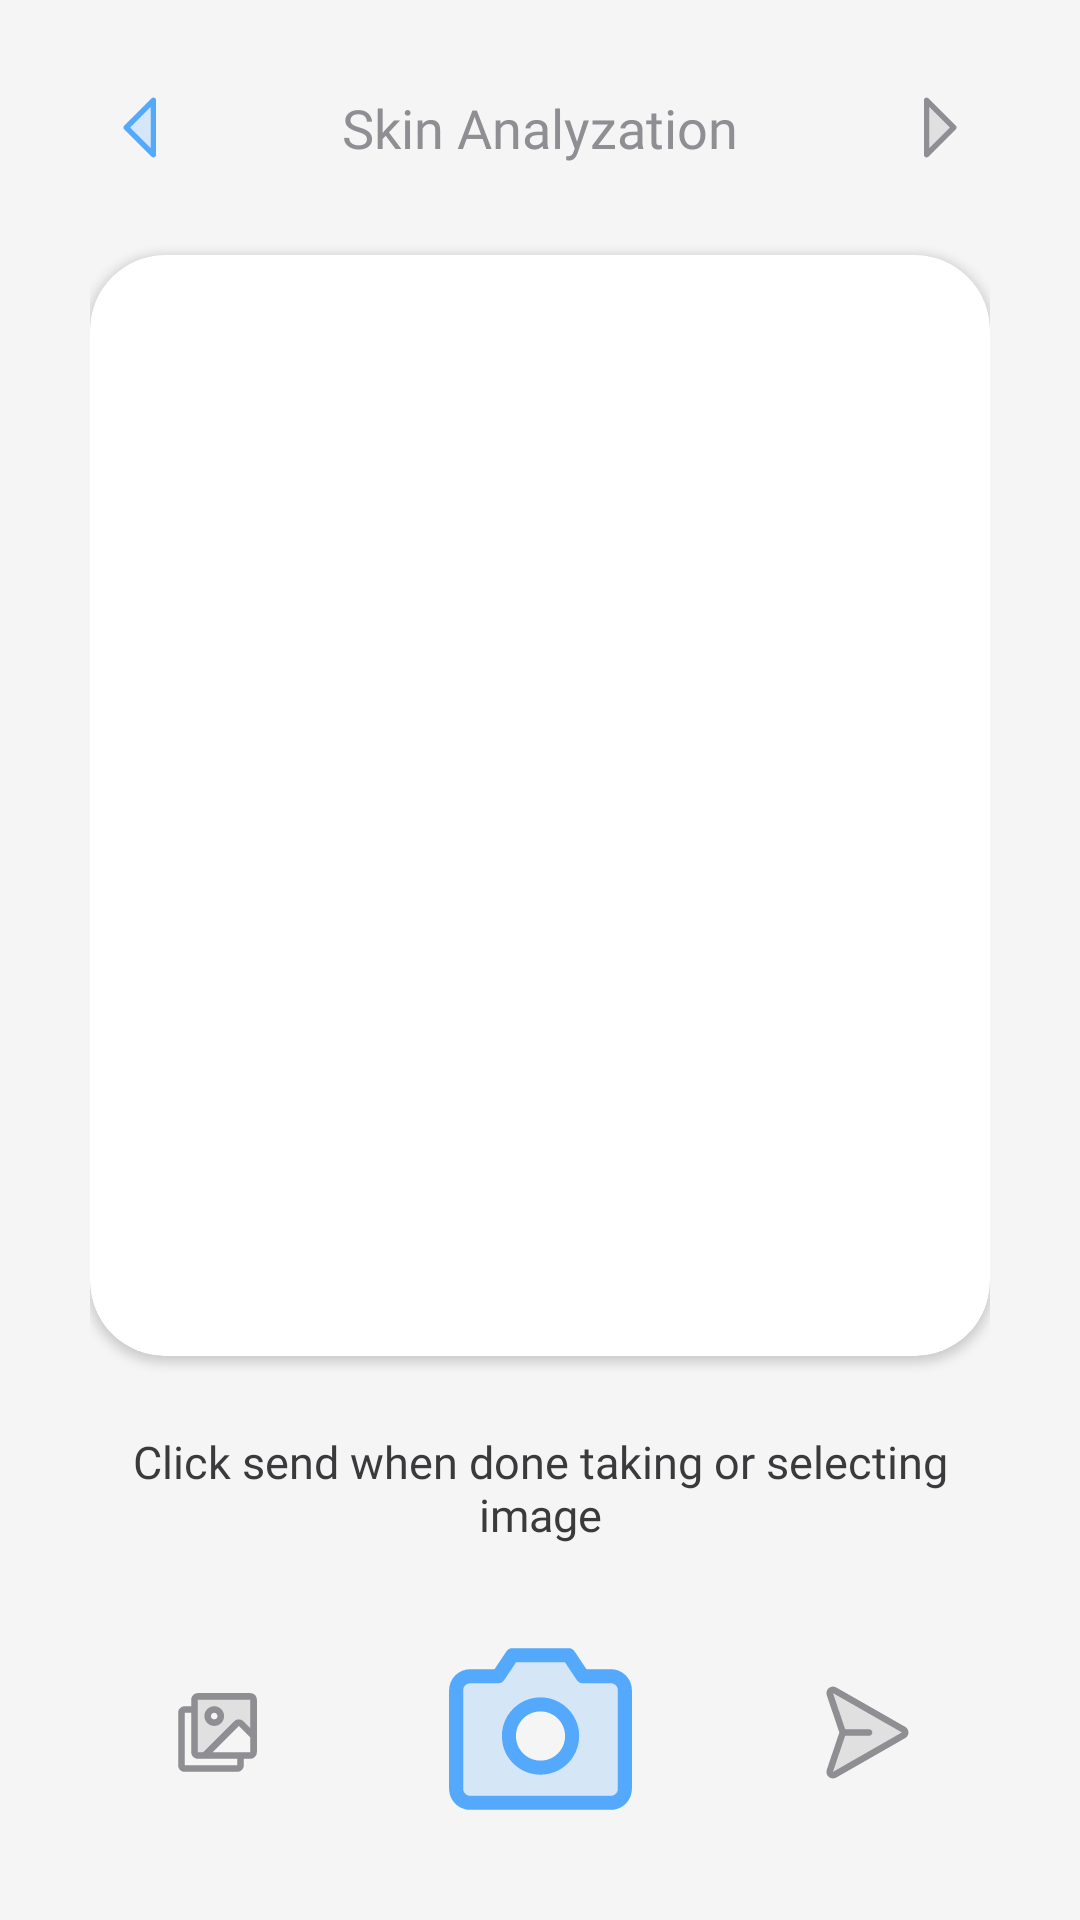

Icon click points for this 1080x1920 phone screenshot, format (x=x, y=y):
arrow left: (x=139, y=127)
arrow right: (x=940, y=127)
camera: (x=540, y=1729)
paper plane: (x=867, y=1732)
